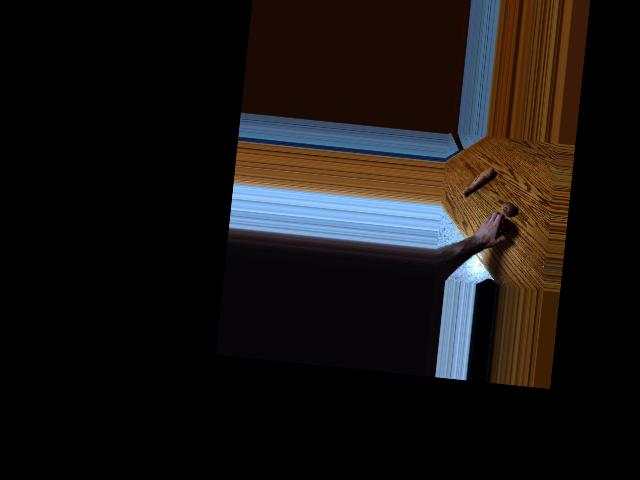onion: (492, 217, 510, 236)
